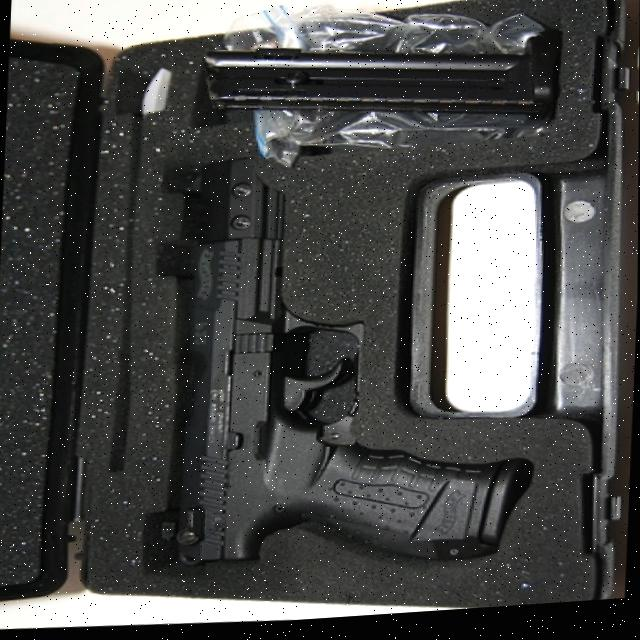pistol: (167, 143, 547, 581)
